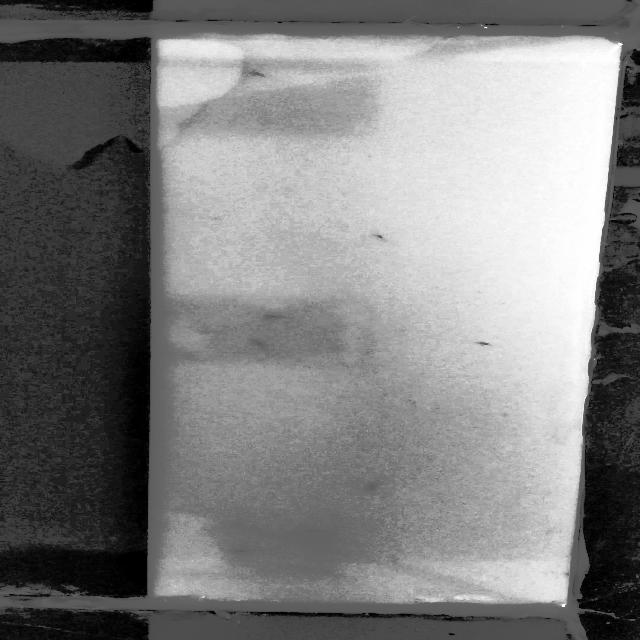shrimp: (257, 309, 304, 322), (464, 336, 502, 351), (300, 528, 352, 536), (364, 229, 396, 242), (248, 335, 269, 350), (361, 481, 384, 494), (236, 548, 273, 554), (250, 70, 272, 80)
